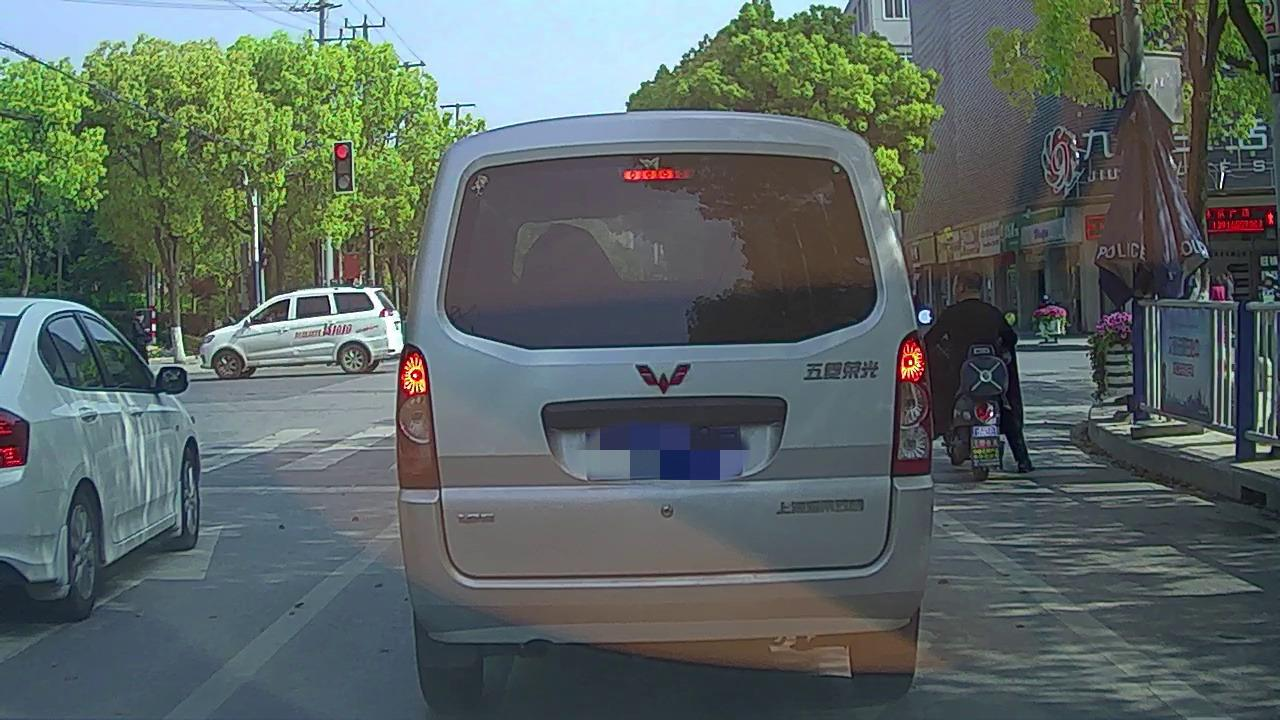traffic_light: (335, 143, 354, 191)
